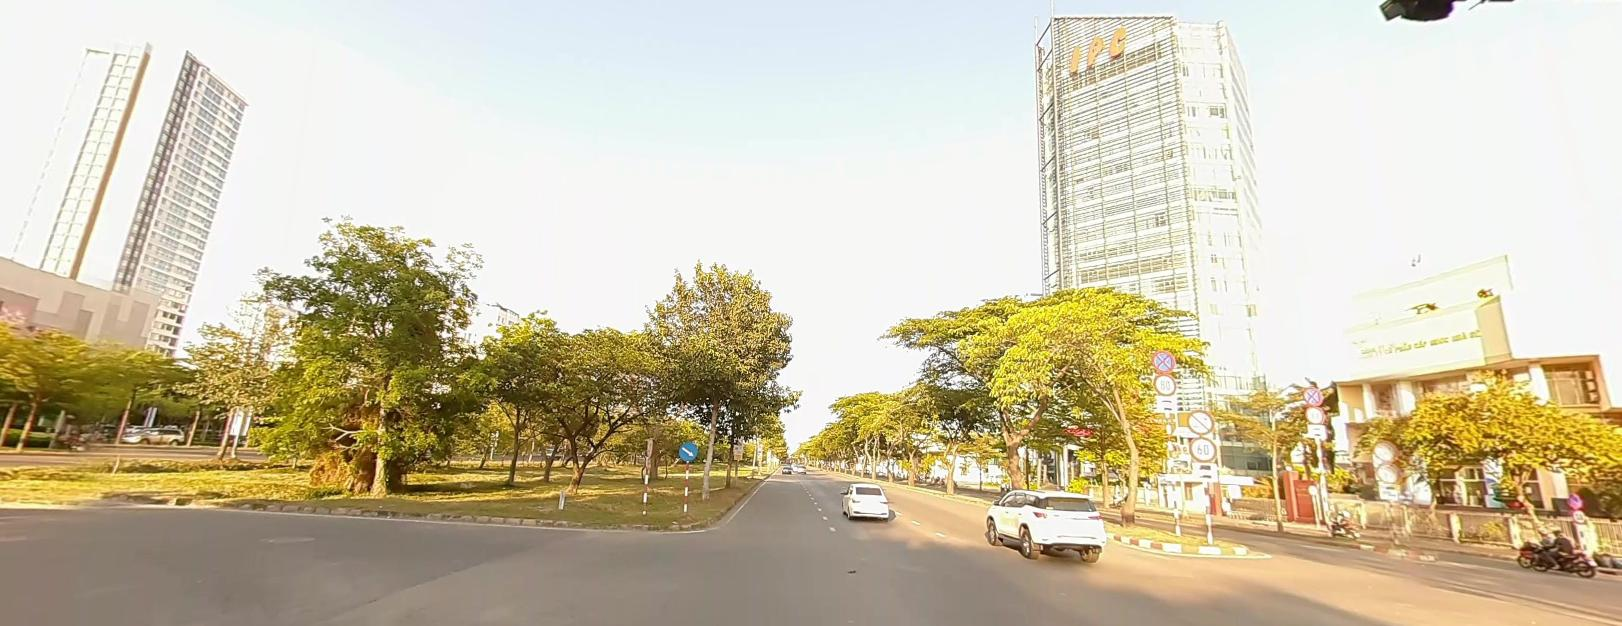Cam con lai: (1187, 407, 1214, 433)
Cam dung va do: (1151, 347, 1175, 371), (1304, 385, 1322, 405), (1566, 491, 1584, 508)
Gioi han toc do: (1188, 436, 1218, 461), (1150, 371, 1178, 394), (1306, 407, 1324, 422), (1571, 509, 1587, 521)
Hieu lenh: (678, 439, 698, 463)
